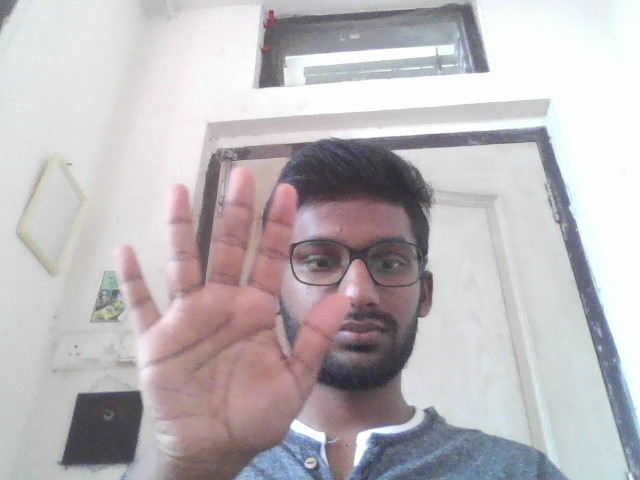Hello: (108, 165, 353, 461)
